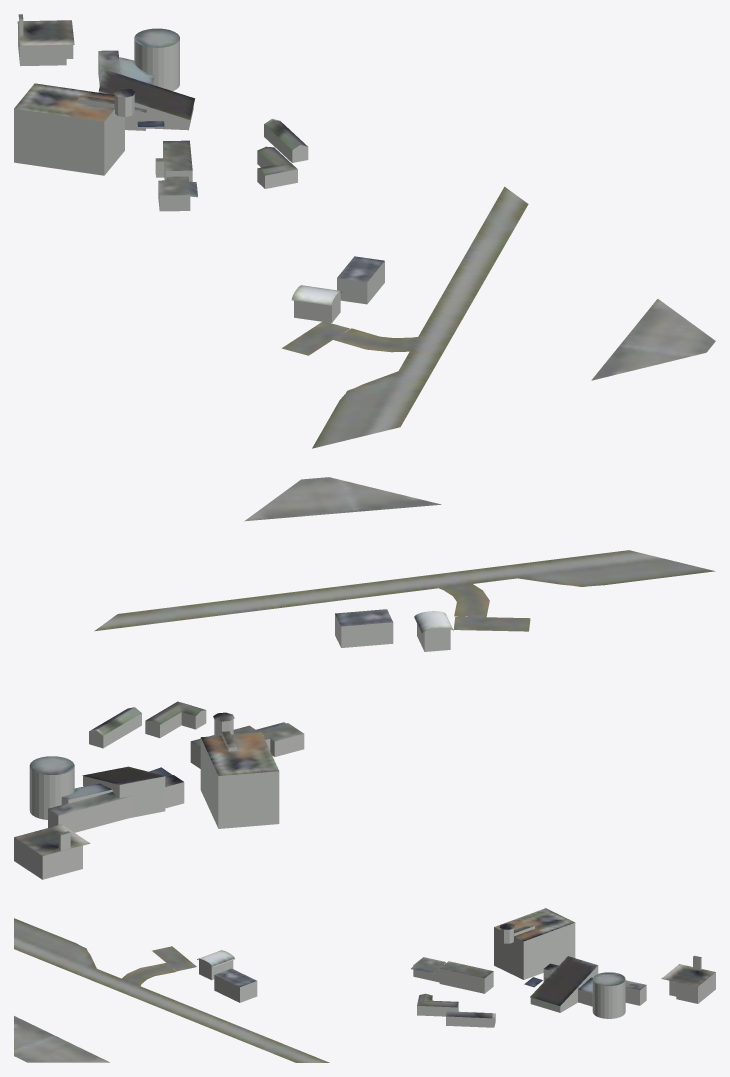
The model's file is LSMP_0_1.glb.
3 views of the same model, one above another, from view 1: azimuth 30°, elevation 25°; view 2: azimuth 150°, elevation 25°; view 3: azimuth 270°, elevation 25° (orthographic). The views are drawn at different scales.
Visible parts, largest first — view 1: pavement_LSMP_pavement_5120_2377, building_5a566bbd5170c08f, building_0686827822413adf, building_e93997cf37f95cf5, building_1b0e64940b82a8aa, building_4df5b0e14787acc9, building_5db17a8eb25c7715; view 2: pavement_LSMP_pavement_5120_2377, building_5a566bbd5170c08f, building_0686827822413adf, building_1b0e64940b82a8aa, building_4df5b0e14787acc9, building_e93997cf37f95cf5, building_5db17a8eb25c7715; view 3: pavement_LSMP_pavement_5120_2377, building_5a566bbd5170c08f, building_0686827822413adf, building_1b0e64940b82a8aa, building_e93997cf37f95cf5, building_4df5b0e14787acc9, building_5db17a8eb25c7715.
Boxes of the visible parts, box(x1,y1,x2,y2) form: pavement_LSMP_pavement_5120_2377: box(281, 186, 715, 448); building_5a566bbd5170c08f: box(14, 19, 193, 175); building_0686827822413adf: box(14, 14, 195, 127); building_e93997cf37f95cf5: box(155, 118, 307, 197); building_1b0e64940b82a8aa: box(155, 125, 308, 211); building_4df5b0e14787acc9: box(294, 261, 384, 322); building_5db17a8eb25c7715: box(291, 256, 384, 305); pavement_LSMP_pavement_5120_2377: box(94, 477, 715, 631); building_5a566bbd5170c08f: box(14, 719, 279, 879); building_0686827822413adf: box(14, 712, 279, 856); building_1b0e64940b82a8aa: box(89, 710, 304, 768); building_4df5b0e14787acc9: box(335, 614, 450, 651); building_e93997cf37f95cf5: box(89, 701, 303, 747); building_5db17a8eb25c7715: box(335, 609, 453, 633); pavement_LSMP_pavement_5120_2377: box(14, 918, 329, 1062); building_5a566bbd5170c08f: box(494, 923, 715, 1018); building_0686827822413adf: box(494, 908, 715, 1006); building_1b0e64940b82a8aa: box(413, 962, 495, 1027); building_e93997cf37f95cf5: box(411, 957, 495, 1018); building_4df5b0e14787acc9: box(199, 959, 257, 1002); building_5db17a8eb25c7715: box(197, 950, 256, 987).
Size of the model in its own units: 216 by 37.05 by 443.
Materials: 3 (2 with a texture image).
